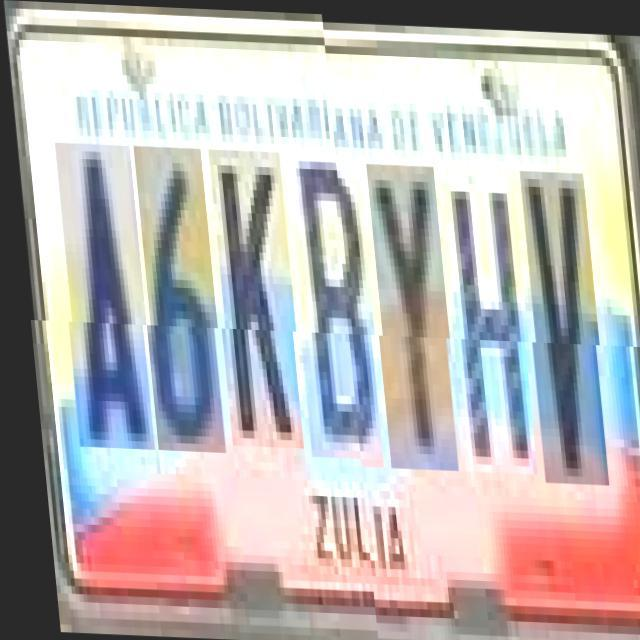6: (131, 153, 222, 460)
A: (52, 150, 150, 456)
B: (285, 158, 379, 465)
H: (438, 171, 532, 470)
K: (206, 155, 299, 454)
V: (516, 167, 604, 480)
Y: (363, 160, 454, 468)
